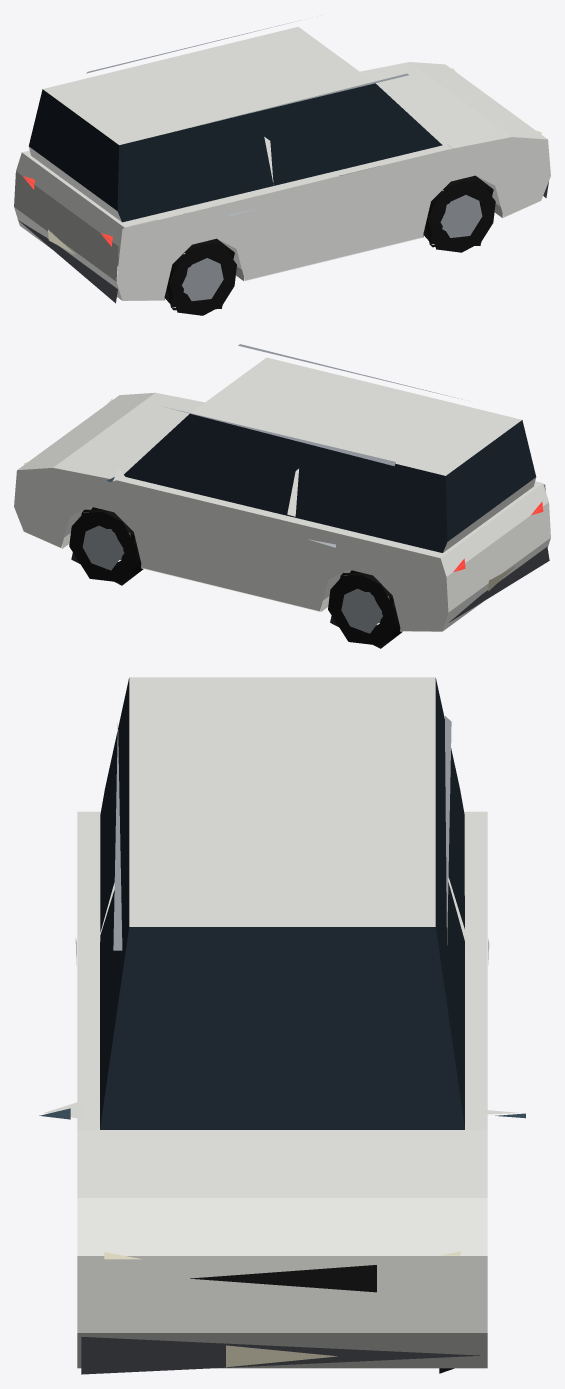
The model's file is suv_lod1.glb.
3 views of the same model, one above another, from view 1: azimuth 30°, elevation 25°; view 2: azimuth 150°, elevation 25°; view 3: azimuth 270°, elevation 25° (orthographic). The views are drawn at different scales.
Parts seen in each view (by area): view 1: suv_body, wheel_rr.004, wheel_fr.002; view 2: suv_body, wheel_fl.002, wheel_rl.004; view 3: suv_body.
Part boxes in pixels (x1,y1,x2,y2): suv_body: (14, 20, 550, 303); wheel_rr.004: (164, 238, 236, 315); wheel_fr.002: (423, 175, 495, 252); suv_body: (14, 344, 550, 631); wheel_fl.002: (69, 507, 143, 585); wheel_rl.004: (328, 570, 402, 648); suv_body: (39, 677, 525, 1374).
Bounding box in the file's own units: 4.52 × 1.8 × 2.16.
Materials: 2 (1 with a texture image).
